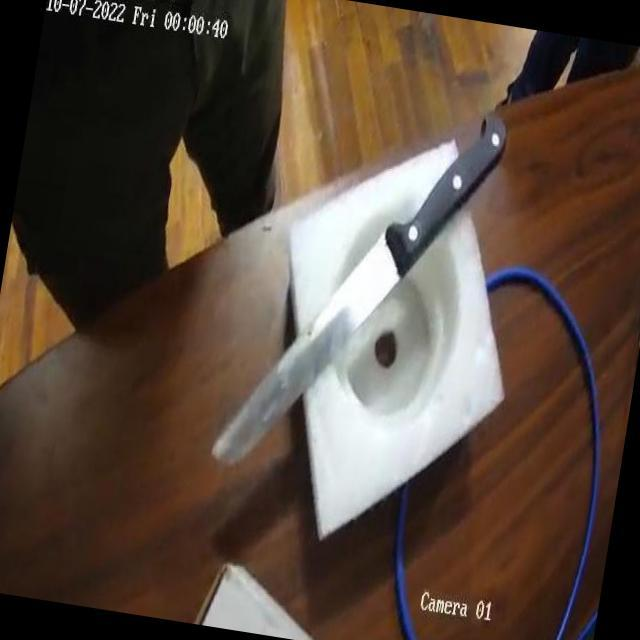Knife: (199, 70, 522, 524)
